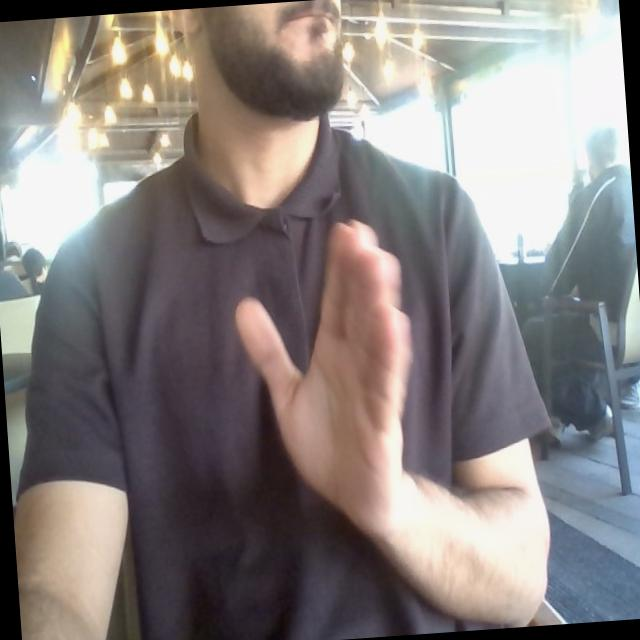Hand: (236, 222, 410, 534)
